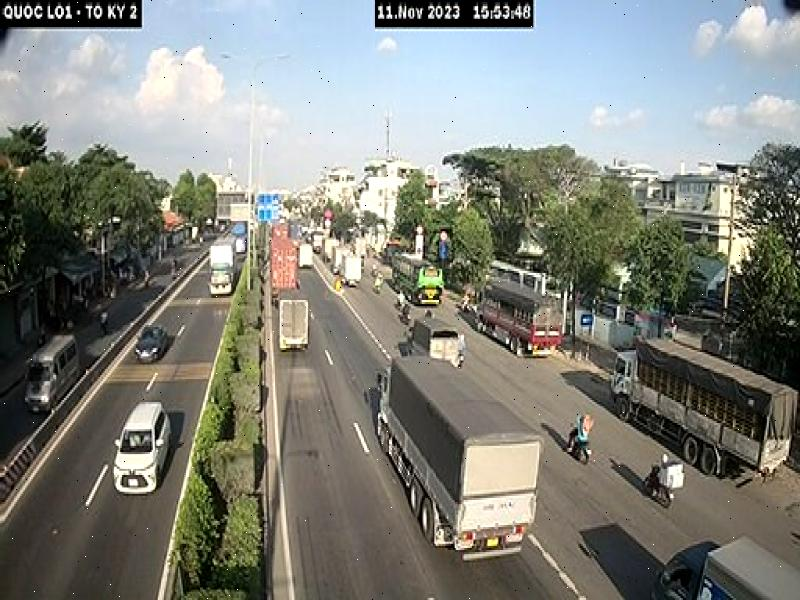bus: (389, 249, 445, 310)
truck: (378, 355, 542, 567), (614, 336, 798, 483), (649, 535, 800, 599), (464, 275, 566, 364)
